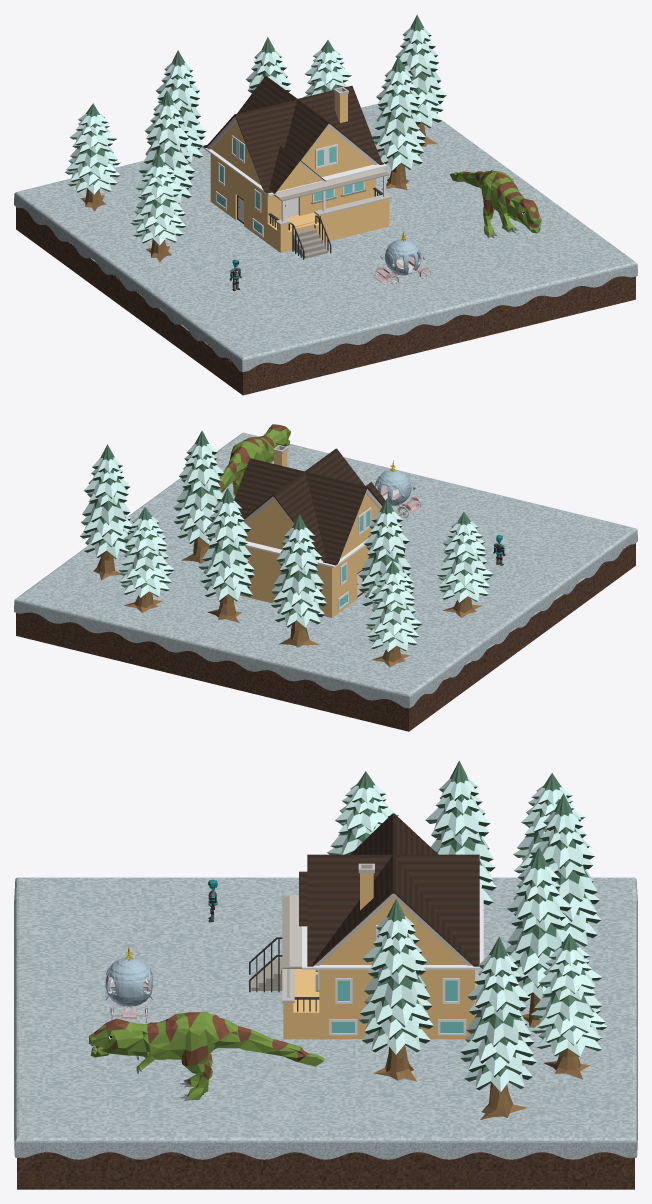
The picture shows the model from 3 angles, top to bottom: view 1: azimuth 30°, elevation 25°; view 2: azimuth 150°, elevation 25°; view 3: azimuth 270°, elevation 25°; orthographic projection. The views are drawn at different scales.
Visible parts, largest first — view 1: Cube.003, Cube.235, ANIMAL_TREX, VEHICLES_FANTASY_CARRIAGE; view 2: Cube.003, Cube.235, ANIMAL_TREX, VEHICLES_FANTASY_CARRIAGE; view 3: Cube.003, Cube.235, ANIMAL_TREX, VEHICLES_FANTASY_CARRIAGE.
Boxes of the visible parts, <box> form: Cube.003: <box>14,14,637,395</box>; Cube.235: <box>201,76,391,259</box>; ANIMAL_TREX: <box>449,170,541,238</box>; VEHICLES_FANTASY_CARRIAGE: <box>374,230,431,287</box>; Cube.003: <box>14,430,637,731</box>; Cube.235: <box>234,445,404,617</box>; ANIMAL_TREX: <box>218,424,290,495</box>; VEHICLES_FANTASY_CARRIAGE: <box>375,460,422,517</box>; Cube.003: <box>14,760,637,1189</box>; Cube.235: <box>249,813,483,1039</box>; ANIMAL_TREX: <box>88,1012,324,1101</box>; VEHICLES_FANTASY_CARRIAGE: <box>103,946,155,1023</box>.
Bounding box in the file's own units: 4040 × 1665 × 4040.
Materials: 32 (3 with a texture image).
